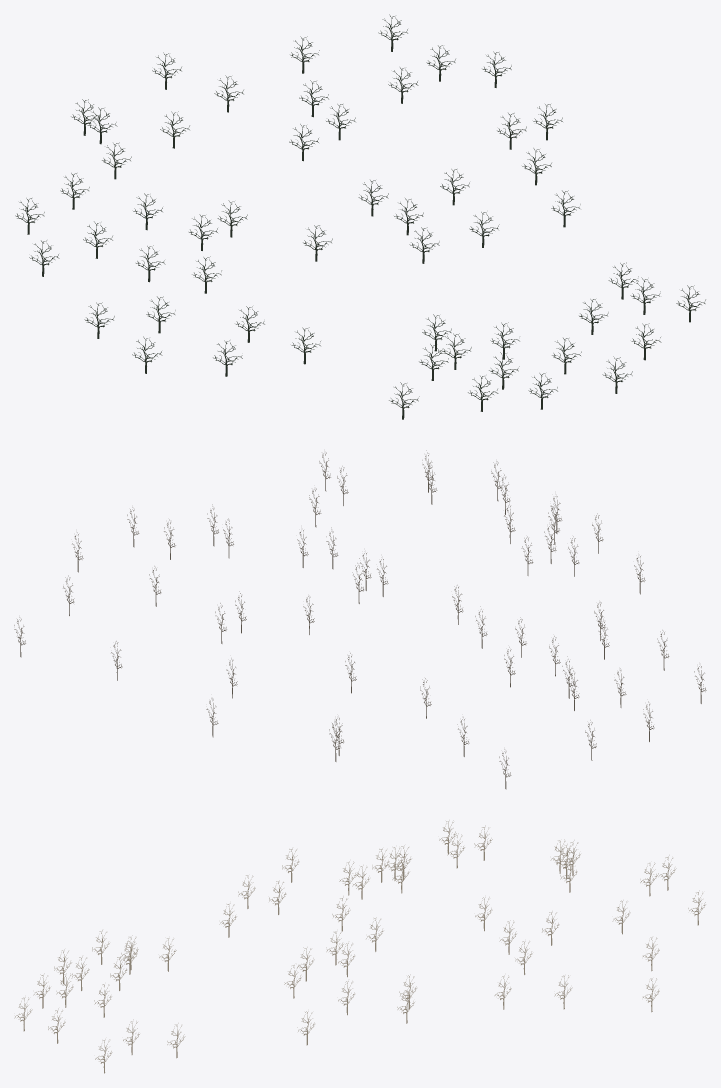
Rendered from arboles.glb.
The picture shows the model from 3 angles, top to bottom: view 1: azimuth 30°, elevation 25°; view 2: azimuth 150°, elevation 25°; view 3: azimuth 270°, elevation 25°; orthographic projection. The views are drawn at different scales.
Bounding box in the file's own units: 78.18 × 21.46 × 102.
2 materials, 1 textured.
